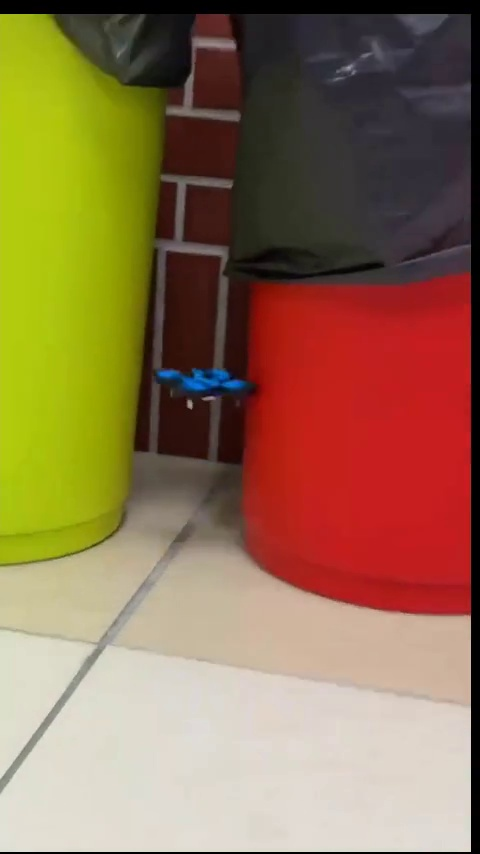drone: (157, 367, 247, 403)
